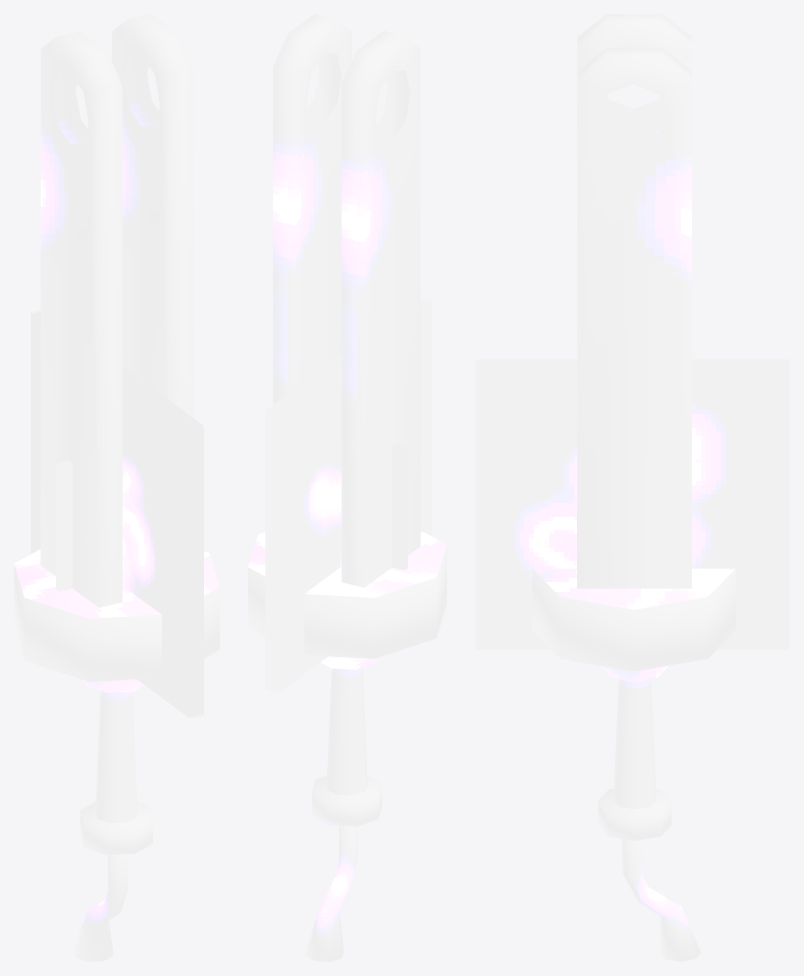
Rendered from sfx_weapon_blade_A0015.glb.
The picture shows the model from 3 angles, left to right: view 1: azimuth 30°, elevation 25°; view 2: azimuth 150°, elevation 25°; view 3: azimuth 270°, elevation 25°; orthographic projection. The views are drawn at different scales.
Parts seen in each view (by area): view 1: sfx_weapon_blade_A0015; view 2: sfx_weapon_blade_A0015; view 3: sfx_weapon_blade_A0015.
Boxes of the visible parts, box(x1,y1,x2,y2) form: sfx_weapon_blade_A0015: box(14, 14, 219, 961); sfx_weapon_blade_A0015: box(248, 14, 446, 961); sfx_weapon_blade_A0015: box(475, 14, 789, 961).
Bounding box in the file's own units: 0.2624 × 1.27 × 0.3944.
5 materials, 5 textured.
